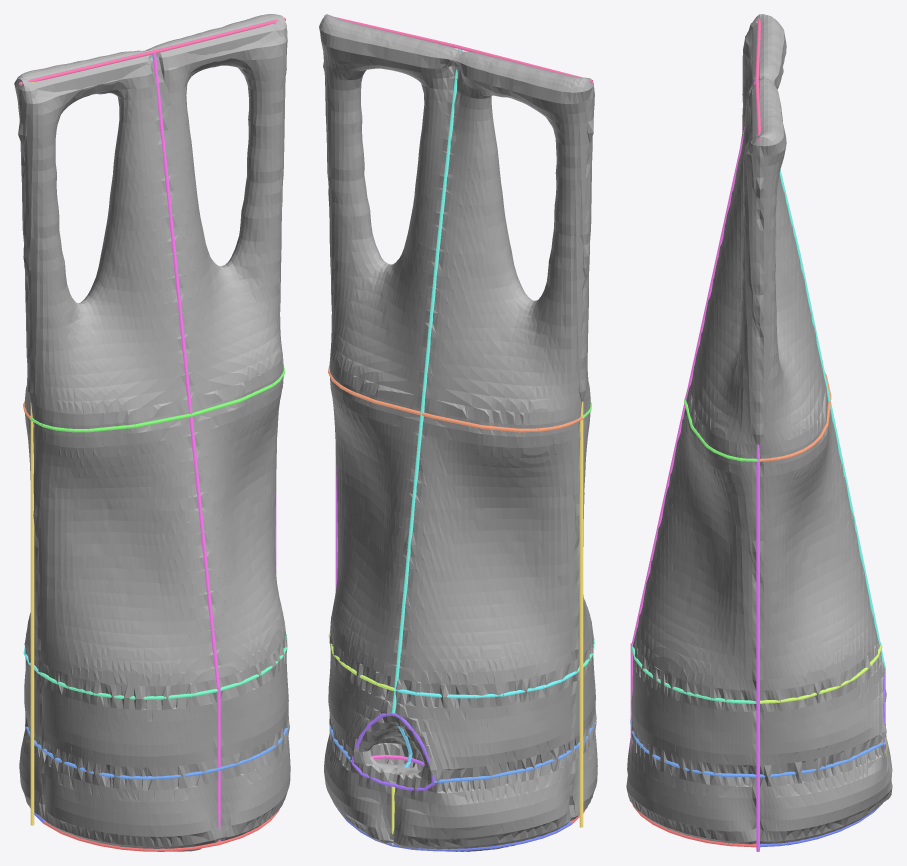
File: t2f_toothpaste.gltf
3 views of the same model, side by side, from view 1: azimuth 30°, elevation 25°; view 2: azimuth 150°, elevation 25°; view 3: azimuth 270°, elevation 25° (orthographic). The views are drawn at different scales.
Bounding box in the file's own units: 0.3392 × 0.9141 × 0.3019.
